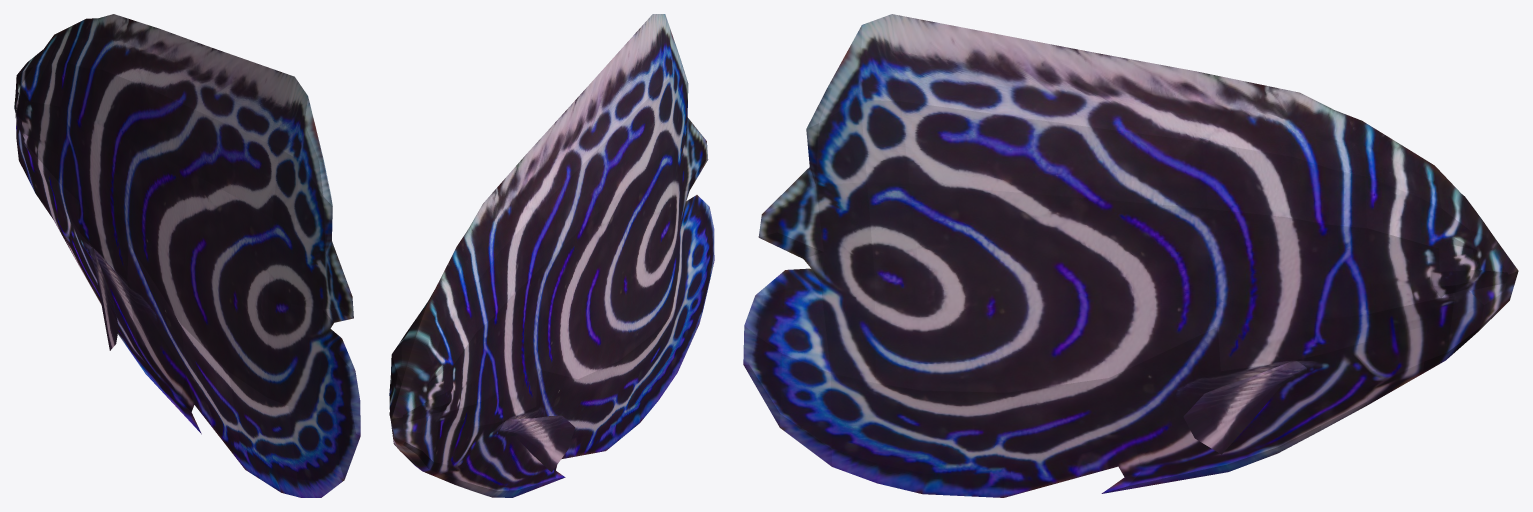
Rendered from pomacanthus-imperator-juvenile.glb.
The picture shows the model from 3 angles, left to right: view 1: azimuth 30°, elevation 25°; view 2: azimuth 150°, elevation 25°; view 3: azimuth 270°, elevation 25°; orthographic projection. The views are drawn at different scales.
Visible parts, largest first — view 1: pomacanthus_imperator_juvenile, pectoral.l; view 2: pomacanthus_imperator_juvenile, pectoral.l; view 3: pomacanthus_imperator_juvenile, pectoral.r.
Boxes of the visible parts, x1,y1,x2,y2 form: pomacanthus_imperator_juvenile: (14,14,360,497); pectoral.l: (89,247,118,350); pomacanthus_imperator_juvenile: (389,14,714,497); pectoral.l: (499,415,575,472); pomacanthus_imperator_juvenile: (743,14,1518,497); pectoral.r: (1183,360,1306,454).
Bounding box in the file's own units: 0.0313 × 0.1374 × 0.1995.
1 material, 1 textured.
